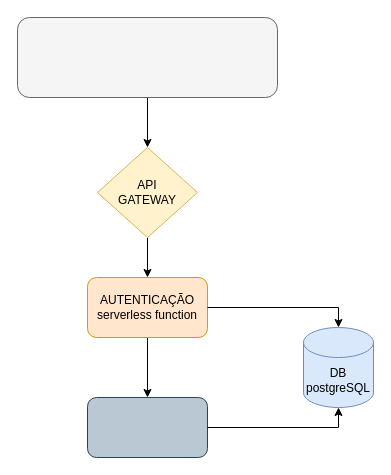
Some shapes in this 391 by 475 pixel diagram are drawn without their labels. Here are the shapes that lost their labels. From the top down, the centre of each, then its label:
At [147,57]: "USUÁRIOS / CLIENTES Admin Mecânico Cliente".
At [147,427]: "MECHANICAL-HUB spring boot app".
